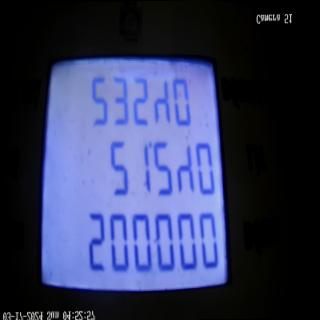screen: (30, 26, 234, 318)
